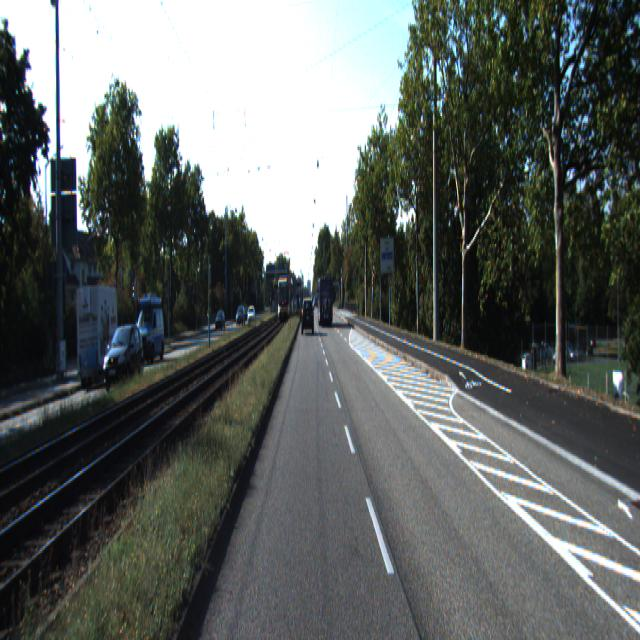Car: (76, 280, 120, 389), (100, 321, 147, 392), (132, 304, 166, 370), (317, 276, 333, 325), (302, 298, 313, 334)
